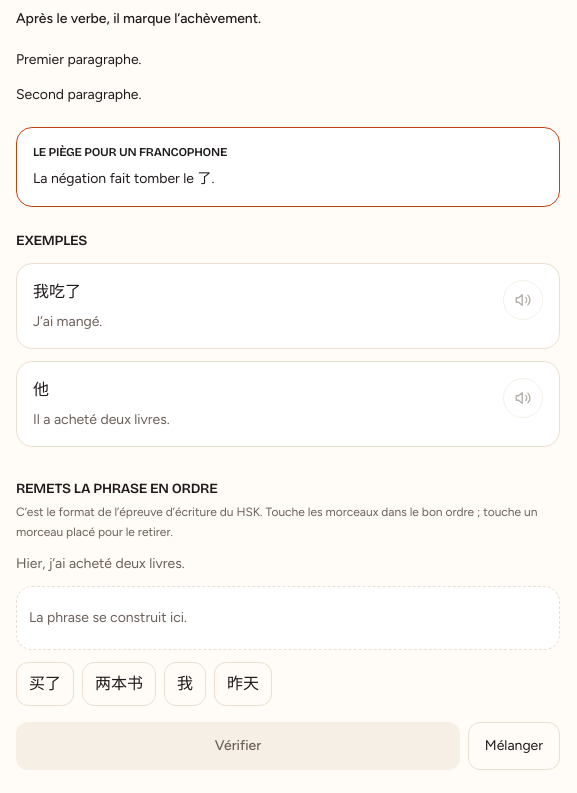
Scenario: PointScreen › n’autorise la vérification qu’une fois tous les morceaux placés
(page scrolled)
Expected: the button "Vérifier" is disabled, x1=16 y1=722 x2=460 y2=770
Click the button named "Placer 我": {"x": 185, "y": 684} x1=164 y1=662 x2=206 y2=706
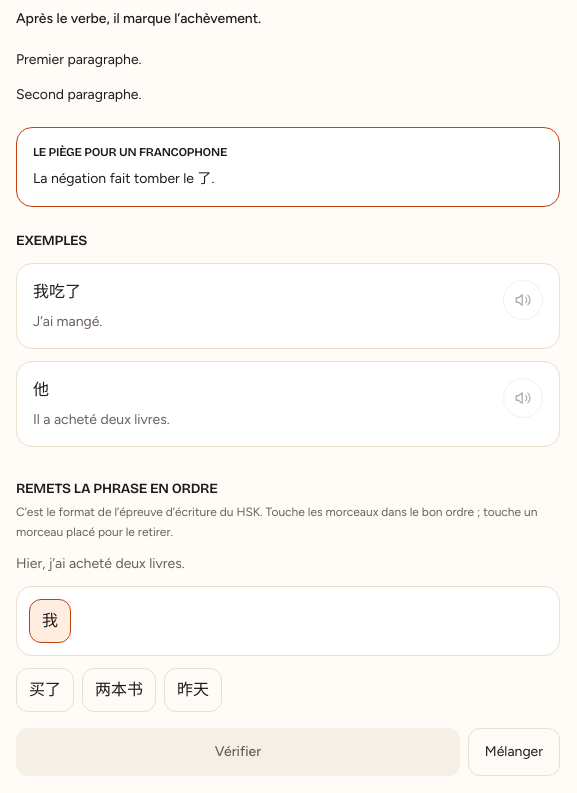
Click the button "昨天": {"x": 193, "y": 690} x1=164 y1=668 x2=222 y2=712
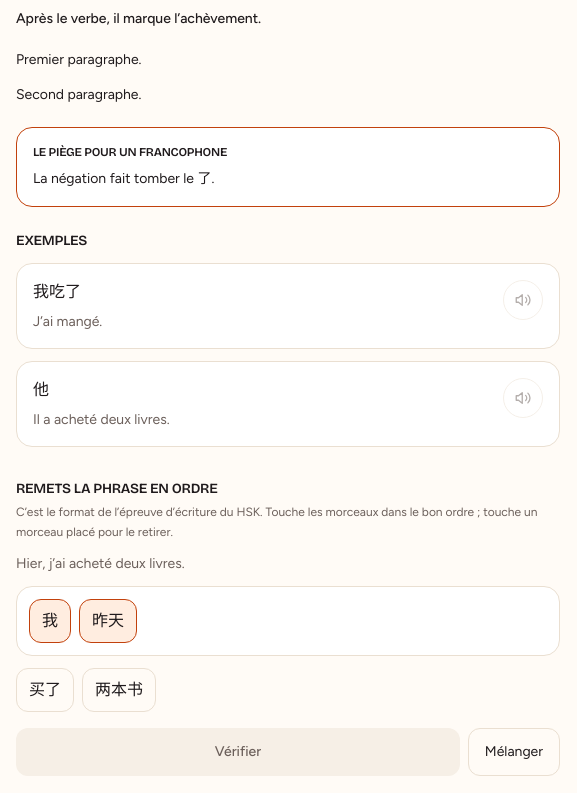
Expected: the button "Vérifier" is disabled, x1=16 y1=728 x2=460 y2=776
Click the button "买了": {"x": 45, "y": 690} x1=16 y1=668 x2=74 y2=712
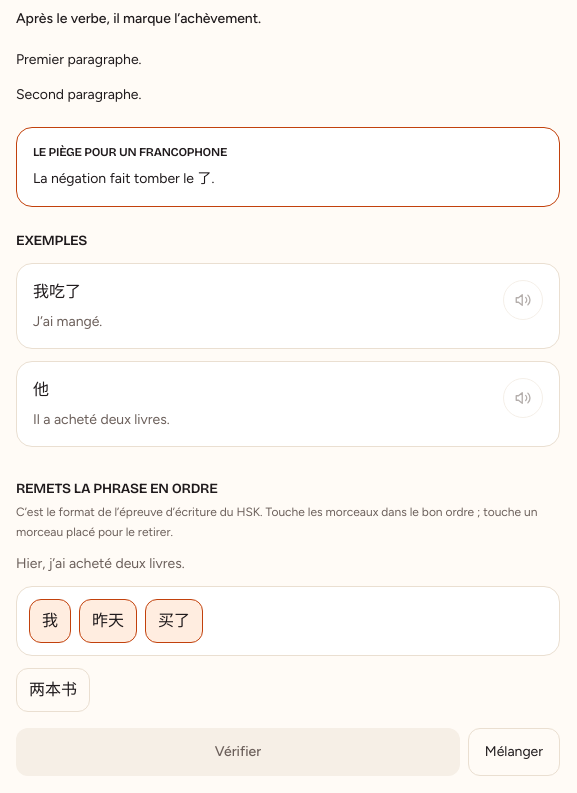
Click the button "两本书": {"x": 53, "y": 690} x1=16 y1=668 x2=90 y2=712
(page scrolled)
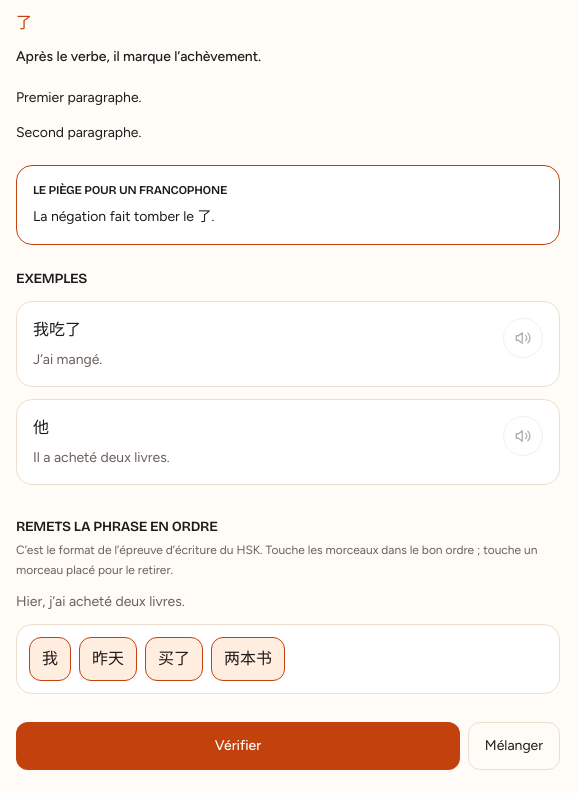
Now the button "Vérifier" is enabled, box x1=16 y1=722 x2=460 y2=770
